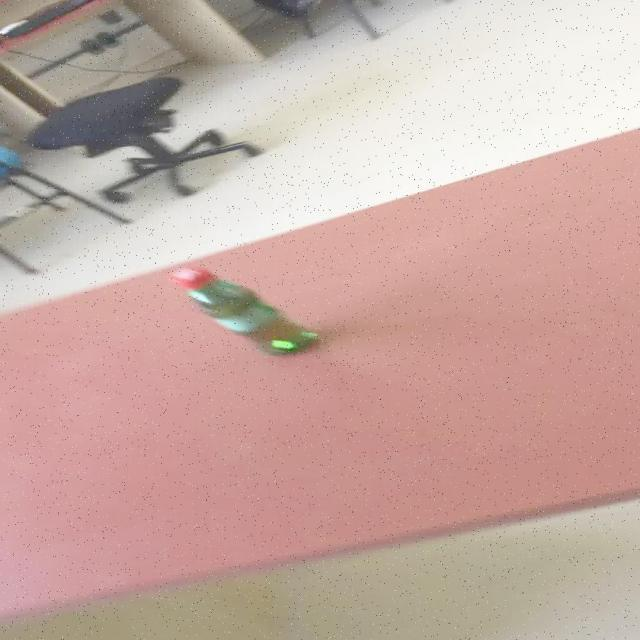Guarana: (168, 264, 323, 356)
